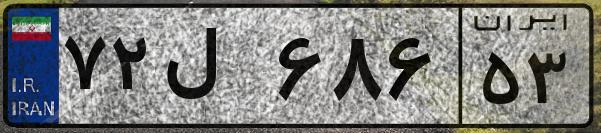2: (110, 28, 158, 98)
3: (525, 38, 570, 115)
5: (475, 38, 525, 113)
6: (270, 28, 330, 110), (385, 28, 445, 110)
7: (57, 26, 110, 100)
8: (330, 28, 385, 110)
ل: (158, 20, 270, 120)
